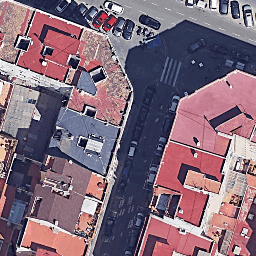car: (139, 13, 162, 30), (103, 215, 114, 241), (146, 164, 159, 185), (143, 87, 157, 106), (242, 5, 254, 27), (103, 1, 124, 13), (209, 41, 228, 54), (123, 20, 135, 39), (231, 49, 250, 61), (190, 38, 207, 51), (74, 3, 87, 20), (113, 19, 125, 37), (103, 16, 118, 30), (94, 13, 108, 28), (155, 137, 166, 156), (127, 141, 138, 160), (122, 160, 133, 179), (115, 180, 127, 196), (134, 212, 145, 229), (132, 124, 143, 141), (64, 2, 78, 15), (138, 106, 148, 124), (231, 1, 241, 18), (168, 95, 177, 113), (55, 1, 71, 11), (129, 229, 137, 249), (86, 8, 98, 21), (219, 1, 228, 13), (210, 1, 218, 9), (124, 250, 134, 256), (185, 1, 194, 6)
